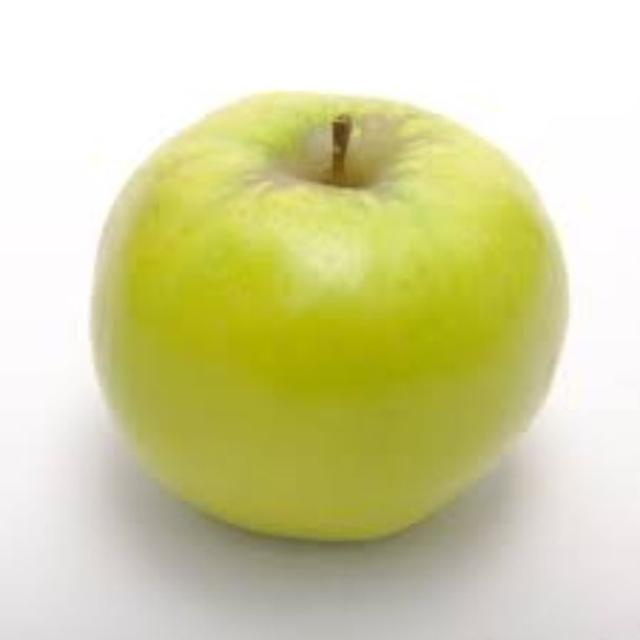Healty Apple: (75, 67, 598, 555)
